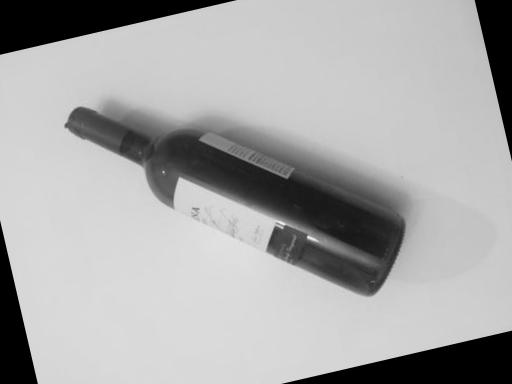glass: (23, 14, 446, 384)
